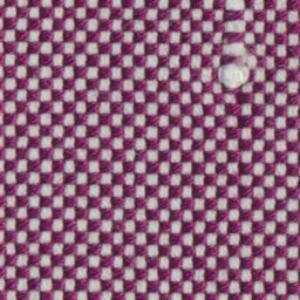defect: (217, 1, 252, 95)
